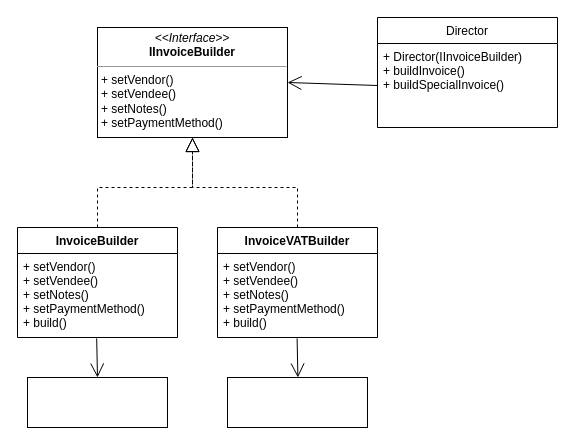
Image size: 575x445. Some labels were removed from this diagram. Each missing label, with the centre of its shape:
"Invoice" goes at (97,402).
"InvoiceVAT" goes at (297,402).
